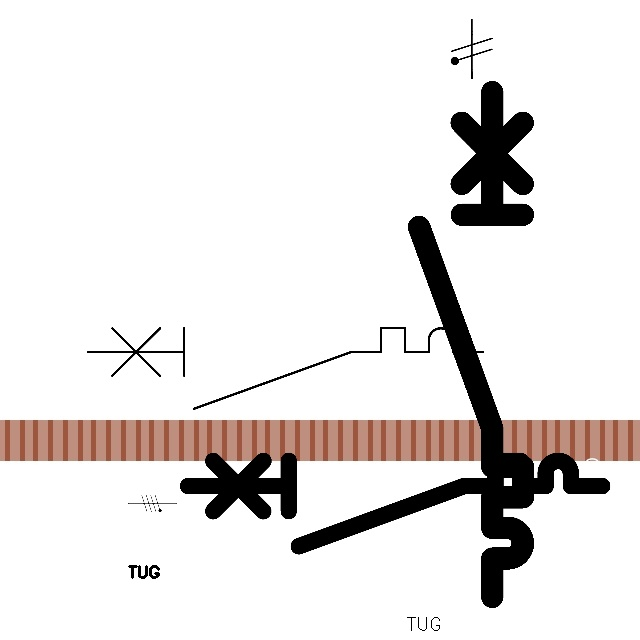interruptor_termomagnetico: (406, 79, 536, 610), (177, 450, 613, 556), (78, 318, 493, 419)
